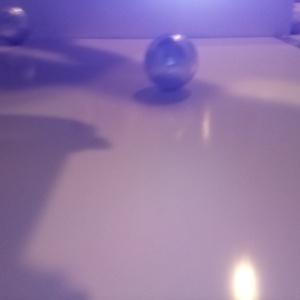alive_ball: (69, 9, 114, 54), (41, 13, 73, 43)
